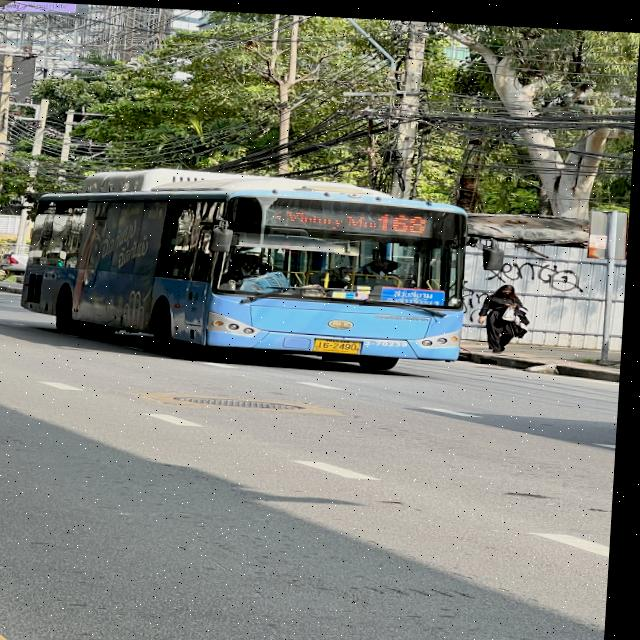BMTA-bus: (21, 162, 475, 369)
Bus-Line-Number: (375, 206, 435, 232)
Destination-Sign-Normal: (386, 283, 449, 300)
